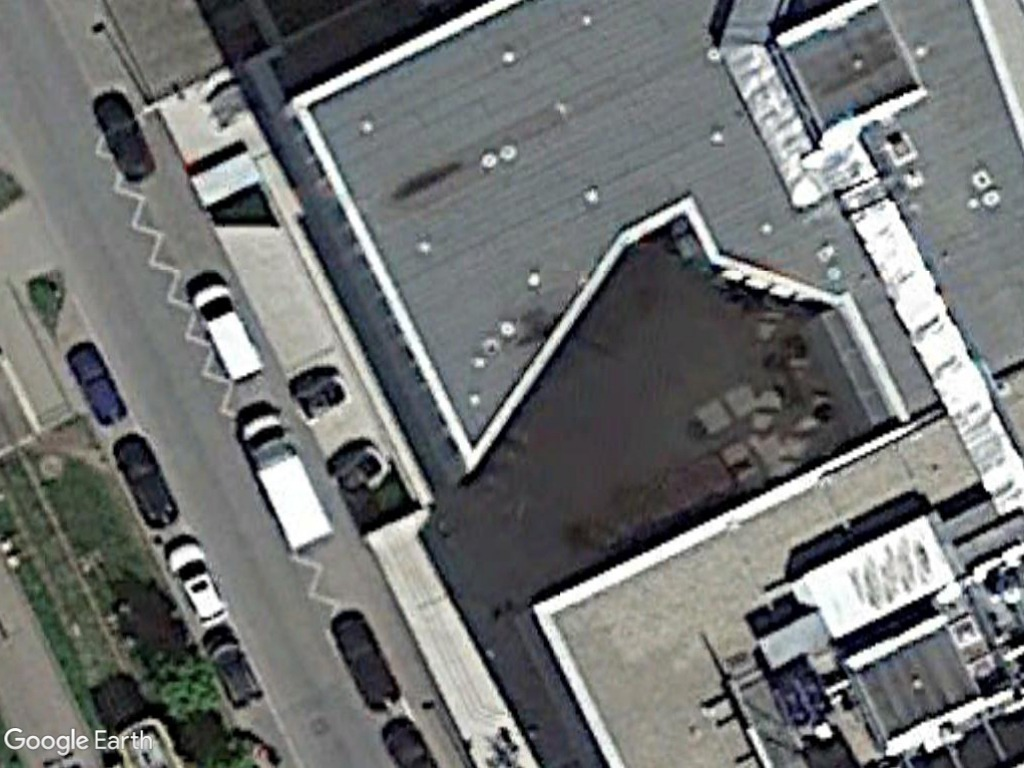car: (161, 539, 228, 631)
truck: (240, 409, 337, 558)
van: (190, 278, 264, 388)
